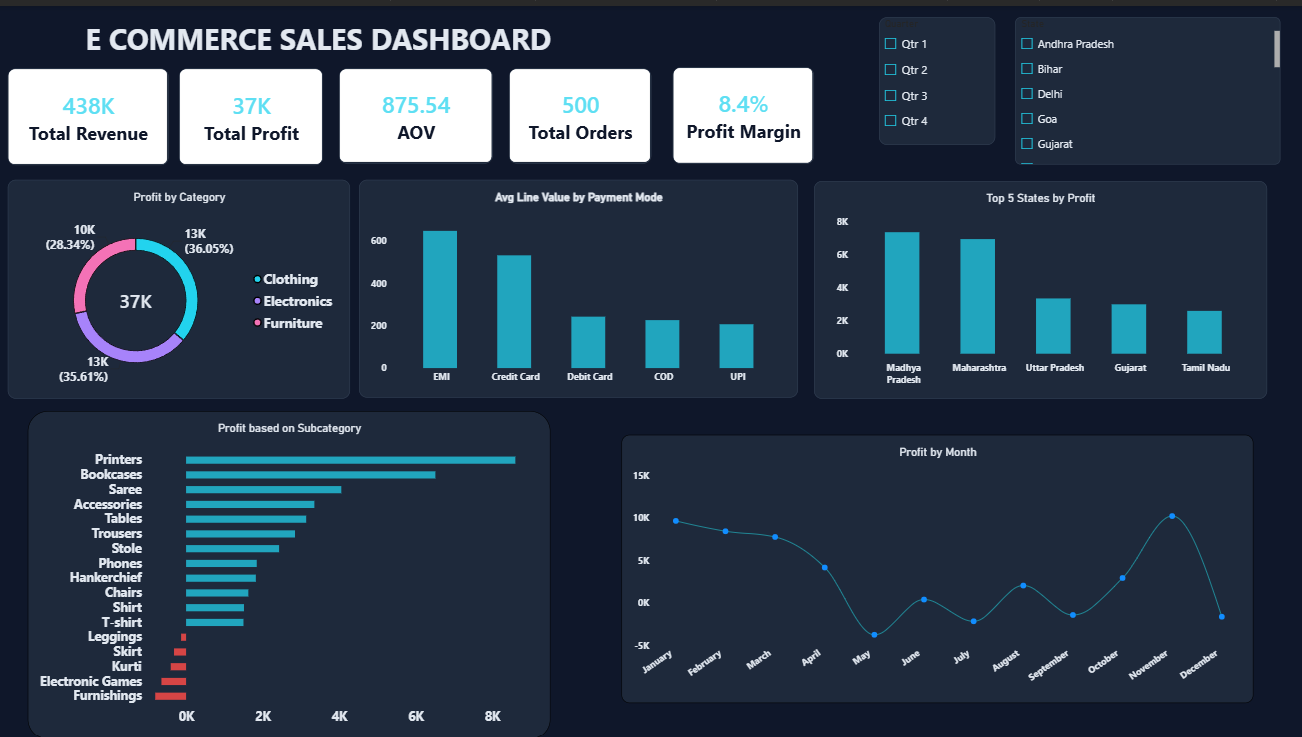

What the dashboard file says about the page in this screenshot:
{"tool":"powerbi","page":{"name":"Page 1","canvas":[1920,1080],"ordinal":0},"visuals":[{"type":"textbox","box":[42.3,0,855.8,92],"z":0},{"type":"lineChart","title":"Profit by Month","fields":{"Category":["Orders.Order Date.Variation.Date Hierarchy.Month"],"Y":["Sum(Details.Profit)"]},"box":[916.6,631.3,930.4,395.2],"z":1000},{"type":"donutChart","title":"Profit by Category","fields":{"Category":["Details.Category"],"Y":["Sum(Details.Profit)"]},"box":[12.9,255.8,504.3,322.1],"z":2000},{"type":"columnChart","title":"Top 5 States by Profit","fields":{"Category":["Orders.State"],"Y":["Sum(Details.Profit)"]},"box":[1200,257.7,666.9,321.1],"z":3000},{"type":"barChart","title":"Profit based on Subcategory","fields":{"Category":["Details.Sub-Category"],"Y":["Sum(Details.Profit)"]},"box":[42.3,596.3,769.3,484.1],"z":4000},{"type":"clusteredColumnChart","title":"Avg Line Value by Payment Mode","fields":{"Category":["Details.PaymentMode"],"Y":["Avg(Details.Amount)"]},"box":[530.1,255.8,646.3,321.1],"z":5000},{"type":"cardVisual","fields":{"Data":["Sum(Details.Amount)"]},"box":[12.9,92,236.7,142],"z":6000},{"type":"cardVisual","fields":{"Data":["Sum(Details.Profit)"]},"box":[265,92,212,142],"z":7000},{"type":"cardVisual","fields":{"Data":["Details.Average Order Value"]},"box":[500.6,92,226.4,140],"z":7001},{"type":"cardVisual","fields":{"Data":["Details.Total Orders"]},"box":[750.9,92,209.9,140],"z":7002},{"type":"cardVisual","fields":{"Data":["Details.Profit Margin %"]},"box":[992,90.2,207.9,142],"z":7003},{"type":"slicer","fields":{"Values":["Orders.Order Date.Variation.Date Hierarchy.Quarter"]},"box":[1295.7,16.6,171.2,187.7],"z":7004},{"type":"slicer","fields":{"Values":["Orders.State"]},"box":[1496.3,16.6,390.2,217.2],"z":7005}]}

Visuals, with their boxes in screenshot pixels (x1, y1, x2, y2), scaled from the page's 1920x1080 canvas onto the 1302x737 screenshot:
textbox: bbox=[29, 0, 609, 63]
"Profit by Month" lineChart: bbox=[622, 431, 1252, 700]
"Profit by Category" donutChart: bbox=[9, 175, 351, 394]
"Top 5 States by Profit" columnChart: bbox=[814, 176, 1266, 395]
"Profit based on Subcategory" barChart: bbox=[29, 407, 550, 736]
"Avg Line Value by Payment Mode" clusteredColumnChart: bbox=[359, 175, 798, 394]
cardVisual - Sum(Details.Amount): bbox=[9, 63, 169, 160]
cardVisual - Sum(Details.Profit): bbox=[180, 63, 323, 160]
cardVisual - Details.Average Order Value: bbox=[339, 63, 493, 158]
cardVisual - Details.Total Orders: bbox=[509, 63, 652, 158]
cardVisual - Details.Profit Margin %: bbox=[673, 62, 814, 158]
slicer - Orders.Order Date.Variation.Date Hierarchy.Quarter: bbox=[879, 11, 995, 139]
slicer - Orders.State: bbox=[1015, 11, 1279, 160]
